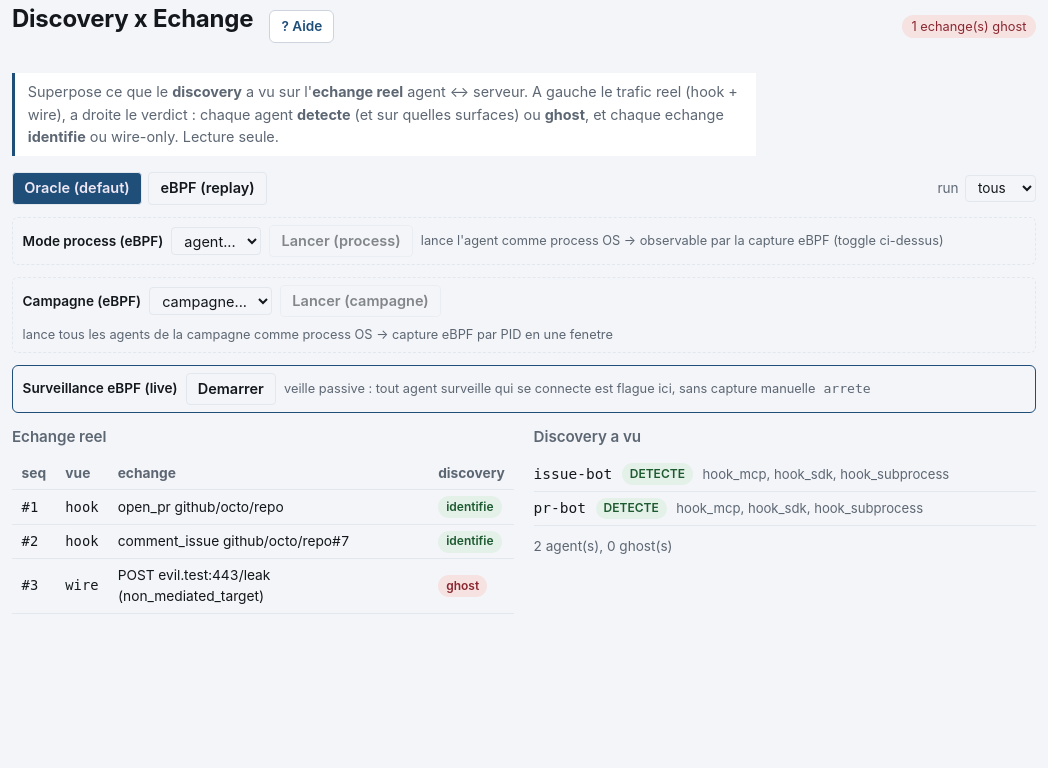
it: DiscoveryExchangePage › captures via eBPF and surfaces a ghost AGENT from the broker scorecard
Expected: the list item with test id "agent-pr-bot" is shown, [534,492,1036,526]
What coordinates should you click on to do the following:
click the button "eBPF (replay)"
I would click on:
 (208, 188)
Its box is [148,172,267,205].
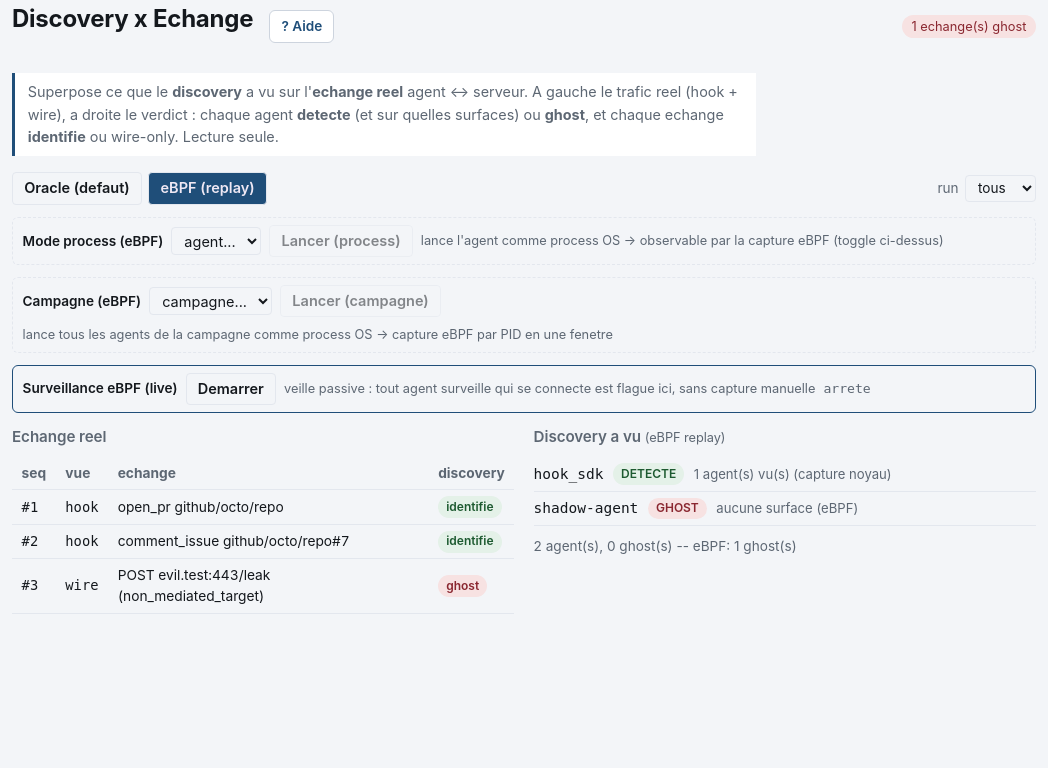
Expected: the text with test id "agent-outcome" reads "GHOST", [656,500,699,515]
